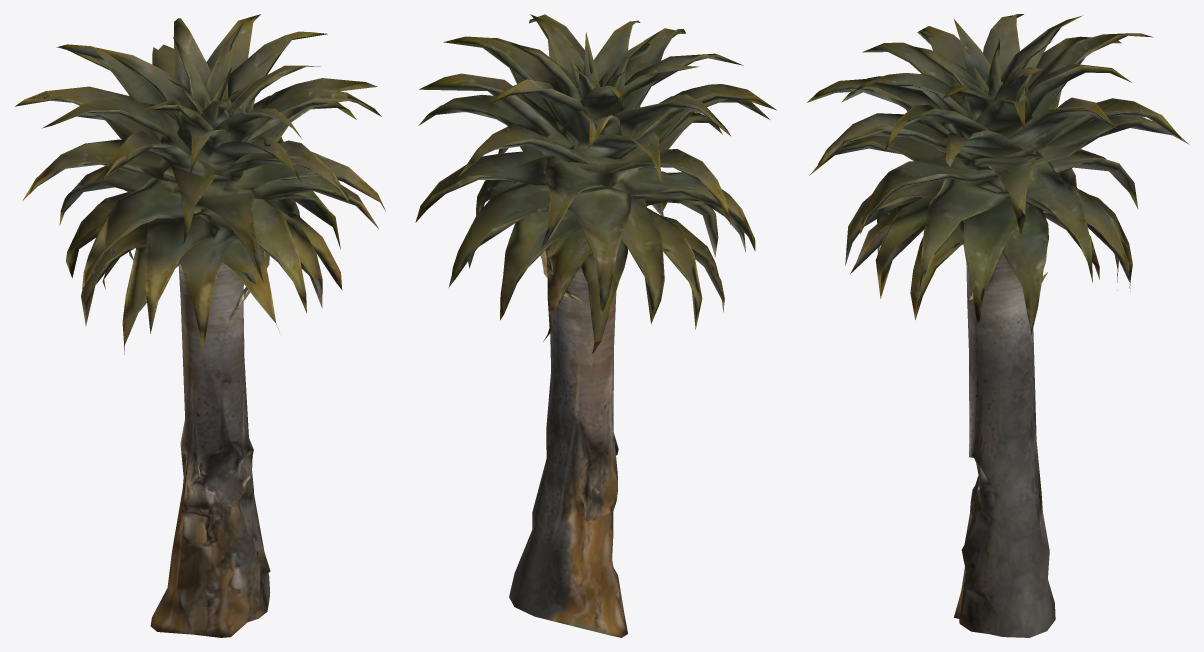
The model's file is tree.glb.
The picture shows the model from 3 angles, left to right: view 1: azimuth 30°, elevation 25°; view 2: azimuth 150°, elevation 25°; view 3: azimuth 270°, elevation 25°; orthographic projection.
Visible parts, largest first — view 1: quiver_tree_02; view 2: quiver_tree_02; view 3: quiver_tree_02.
Part boxes in pixels (x1,y1,x2,y2): quiver_tree_02: (15,14,385,637); quiver_tree_02: (415,14,776,637); quiver_tree_02: (807,14,1188,637).
Size of the model in its own units: 0.8629 by 1.46 by 0.8752.
Materials: 1 (1 with a texture image).
